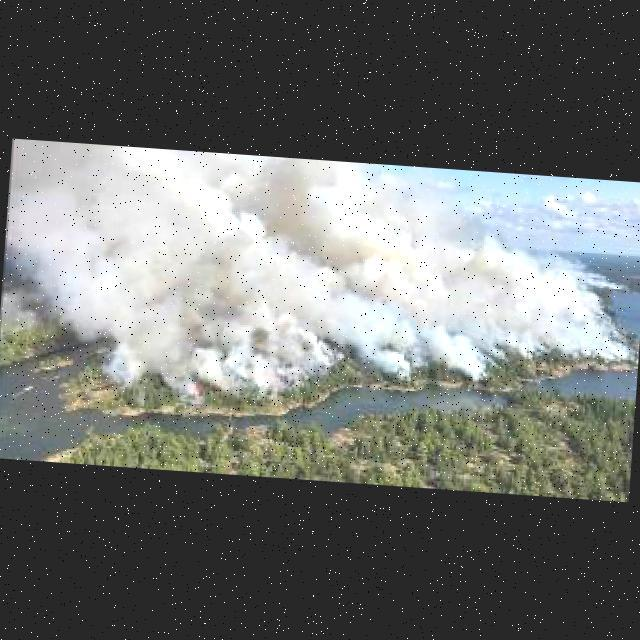Smoke: (66, 153, 628, 434)
